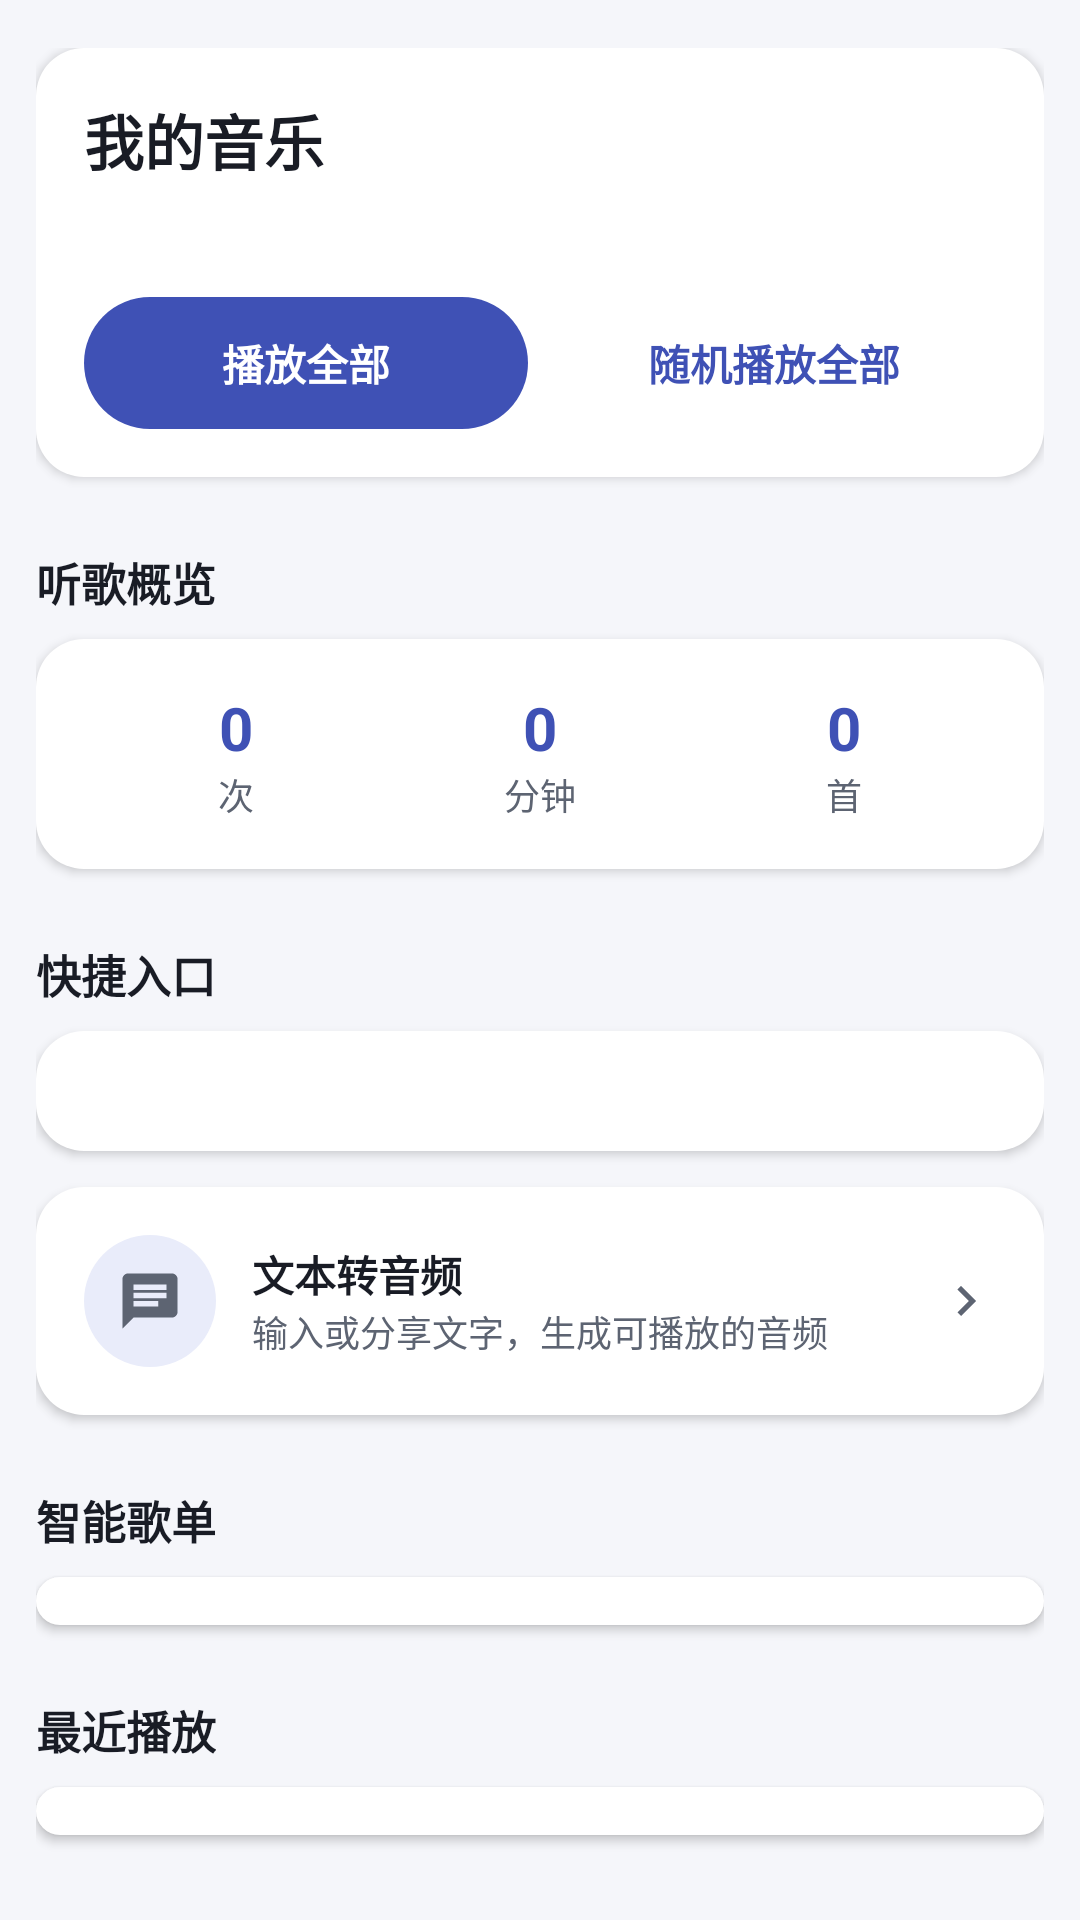

Named icons in this screenshot (1080*1920) and their bounding boxes, (x1, y1, x2, y2):
chevron right: (957, 1286, 976, 1316)
